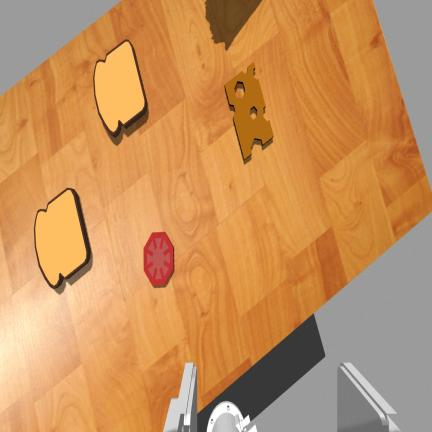cheese: (225, 63, 273, 159)
sliced_bread: (35, 189, 90, 287), (94, 40, 146, 136)
sliced_tomato: (144, 232, 173, 286)
